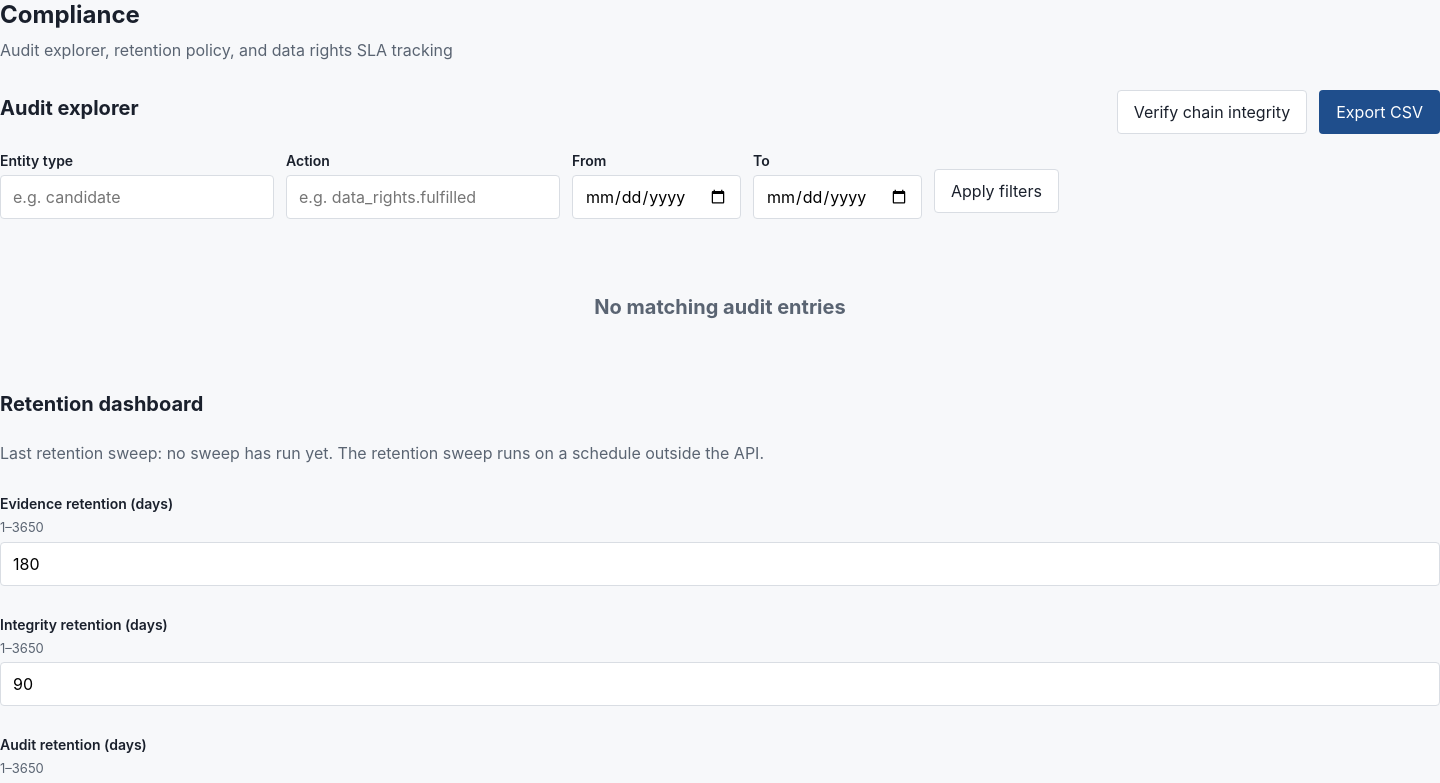
Test: CompliancePage › submits a valid retention policy update
Replace the text in the number field labelled "Evidence retention (days)" with "200" at (720, 564), box [0, 542, 1439, 586]
(page scrolled)
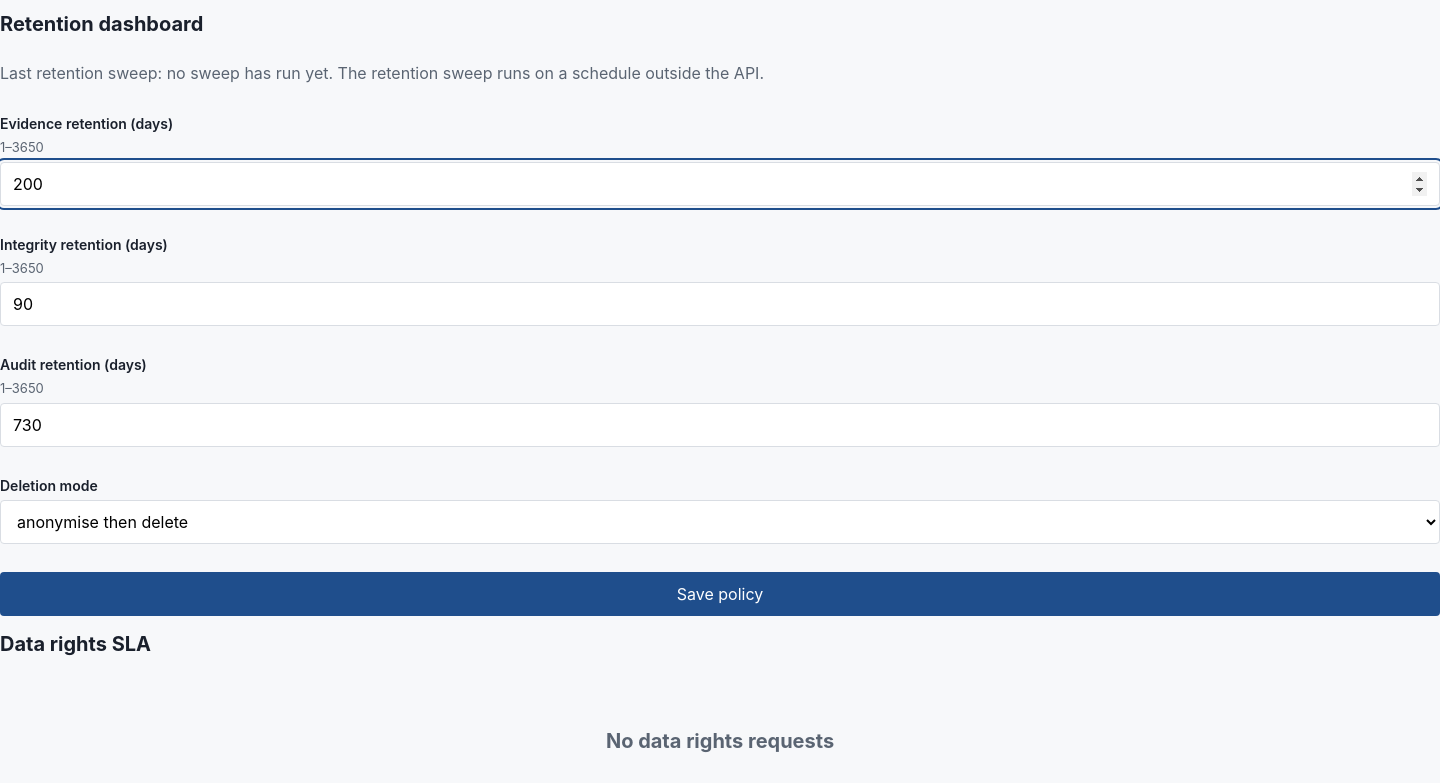
Click the button "Save policy" at (720, 594), box [0, 572, 1439, 616]
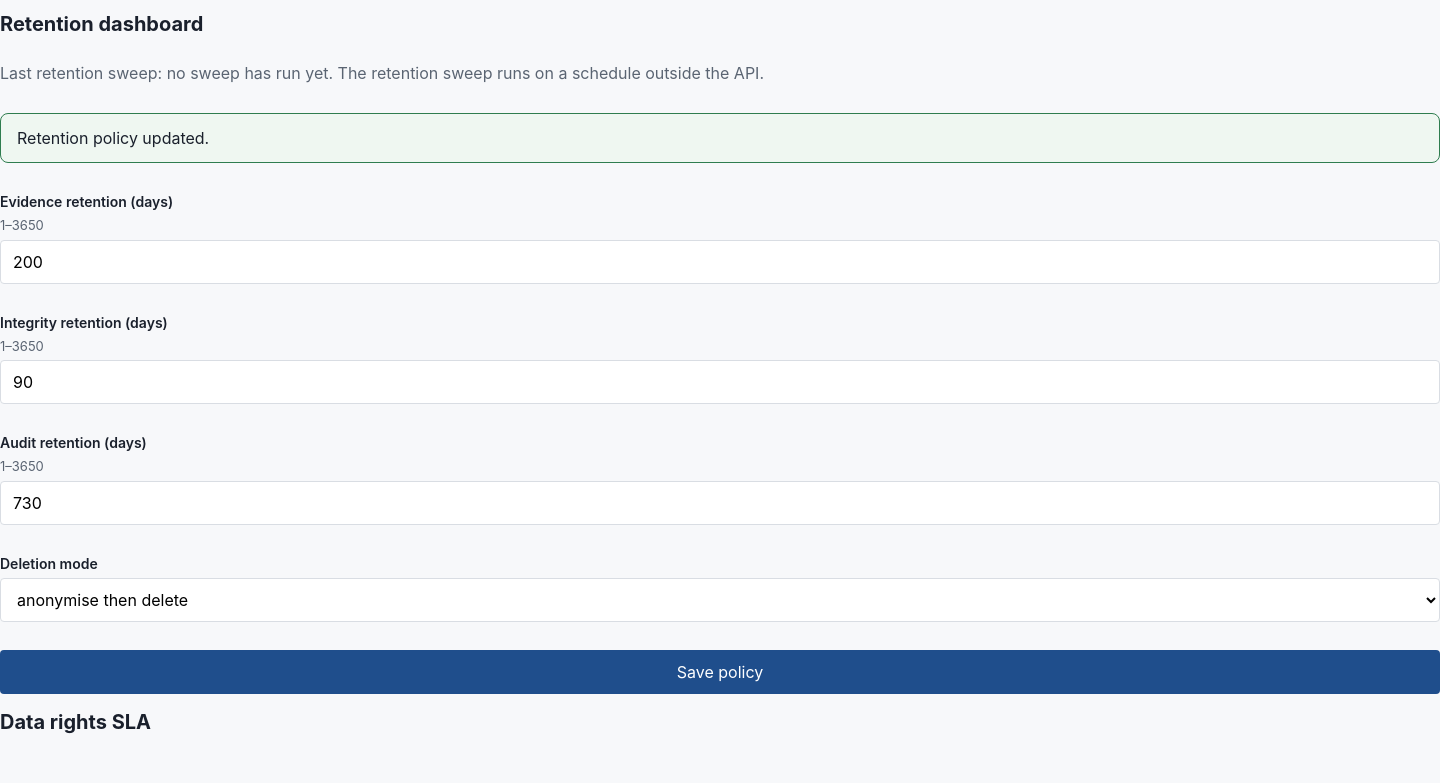
Now the text "Retention policy updated." is shown, box [0, 113, 1439, 163]
